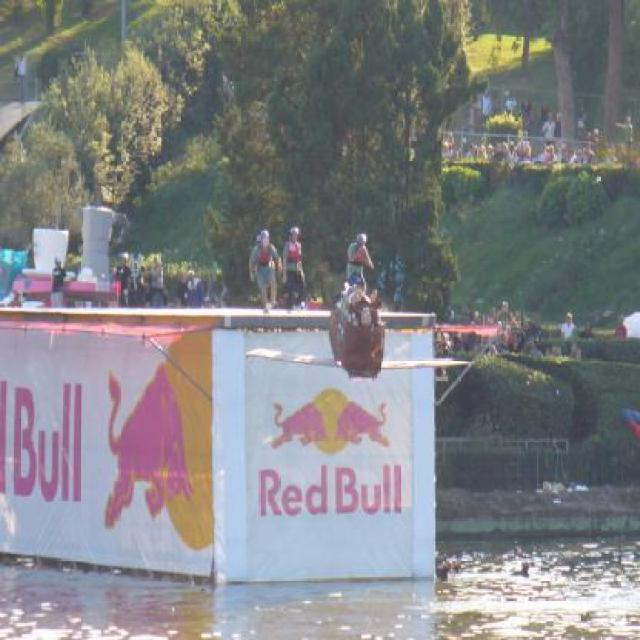Person: (432, 86, 620, 168), (434, 299, 584, 361), (112, 254, 235, 306), (244, 230, 282, 318), (285, 227, 309, 313), (345, 233, 373, 296), (49, 254, 69, 309), (12, 50, 28, 116), (615, 107, 633, 161), (578, 317, 598, 343), (558, 313, 576, 341), (613, 312, 629, 341)
